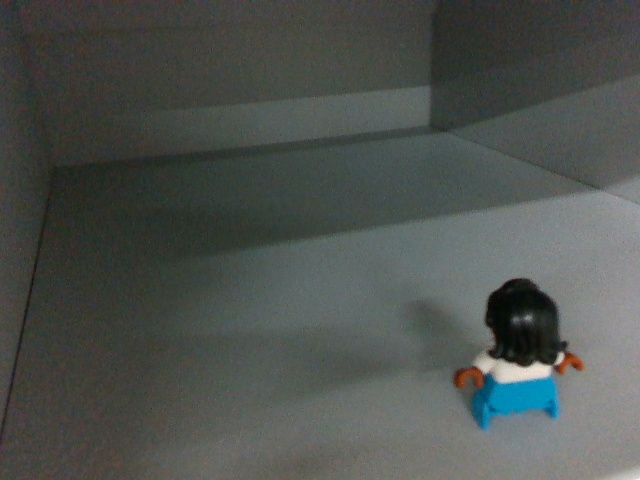people: (454, 273, 582, 433)
